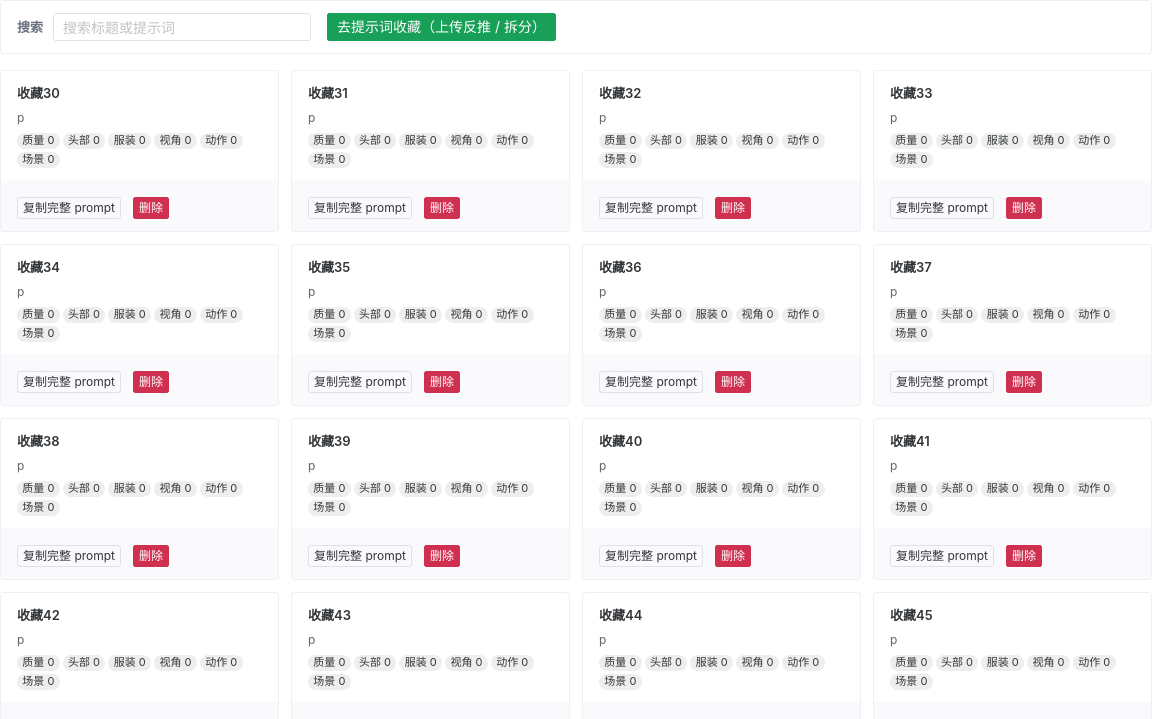
Scenario: CollectionListPage › 搜索时回到第一页
// 搜索框输入 → page 重置回 1
In the field with placeholder "搜索标题或提示词": (172, 27) [63,13,281,41], type "收藏0"
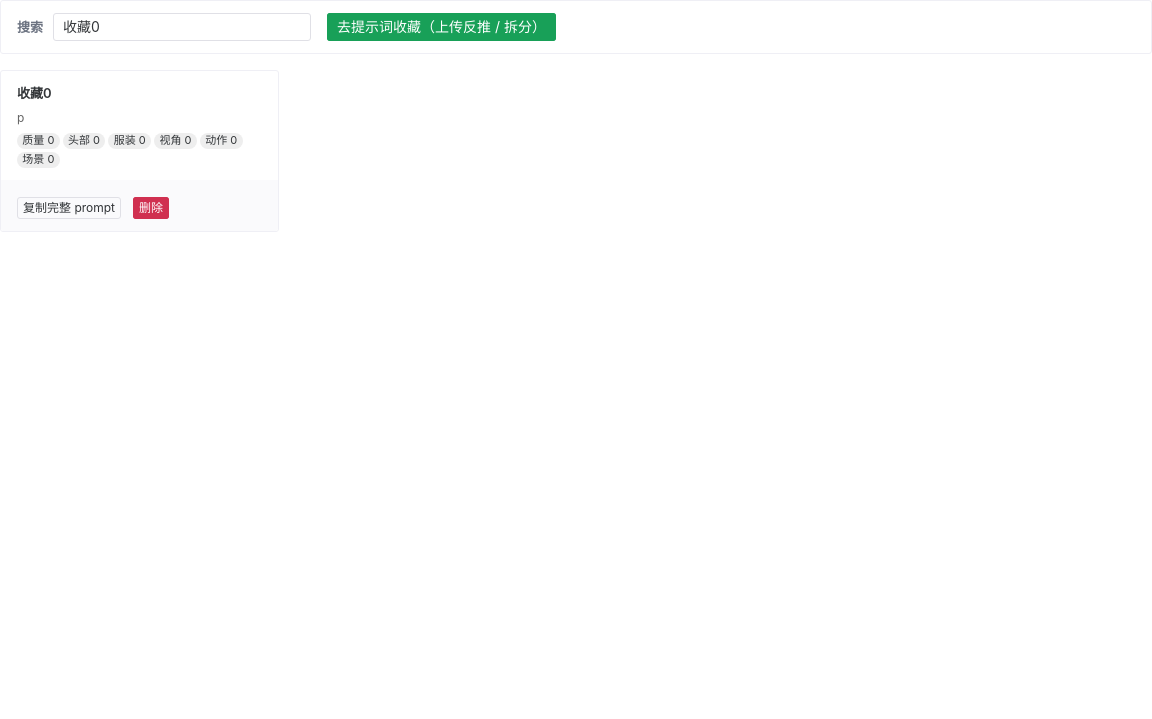
Expected: the text "收藏0" is shown, [17,85,52,101]
Expected: the text "收藏30" is gone
